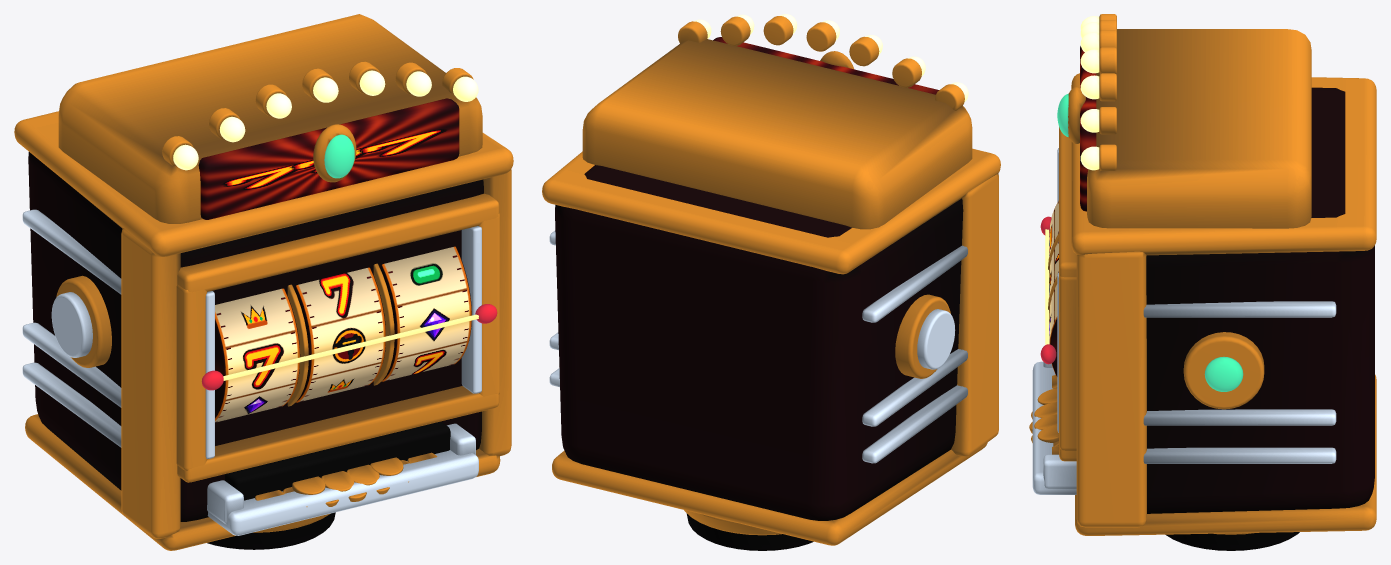
The model's file is char_hr_veronika_slot_head.glb.
3 renders of one model, left to right at view 1: azimuth 30°, elevation 25°; view 2: azimuth 150°, elevation 25°; view 3: azimuth 270°, elevation 25°, orthographic. The views are drawn at different scales.
Parts seen in each view (by area): view 1: char_hr_veronika_slot_head; view 2: char_hr_veronika_slot_head; view 3: char_hr_veronika_slot_head.
Boxes of the visible parts, x1=… form: char_hr_veronika_slot_head: x1=14, y1=14, x2=513, y2=550; char_hr_veronika_slot_head: x1=542, y1=14, x2=1000, y2=550; char_hr_veronika_slot_head: x1=1029, y1=14, x2=1376, y2=550.
Bounding box in the file's own units: 0.238 × 0.296 × 0.198.
8 materials, 8 textured.
